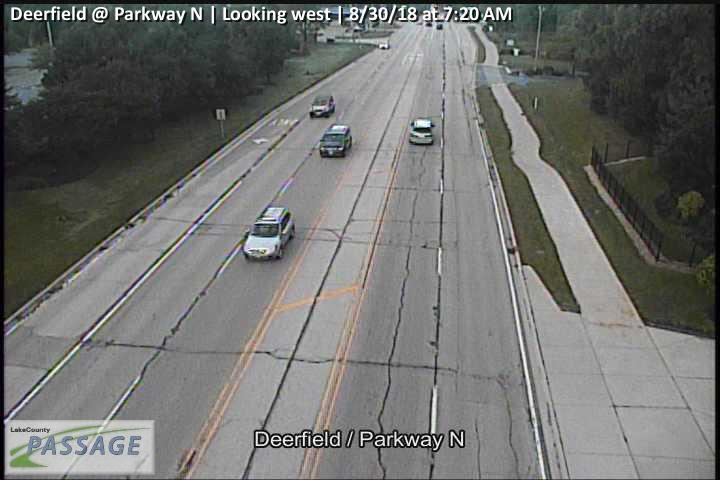SUV: (240, 208, 295, 260), (317, 124, 352, 158), (409, 120, 434, 147), (308, 95, 335, 117)
Sedan: (378, 40, 389, 49), (437, 23, 442, 28)
